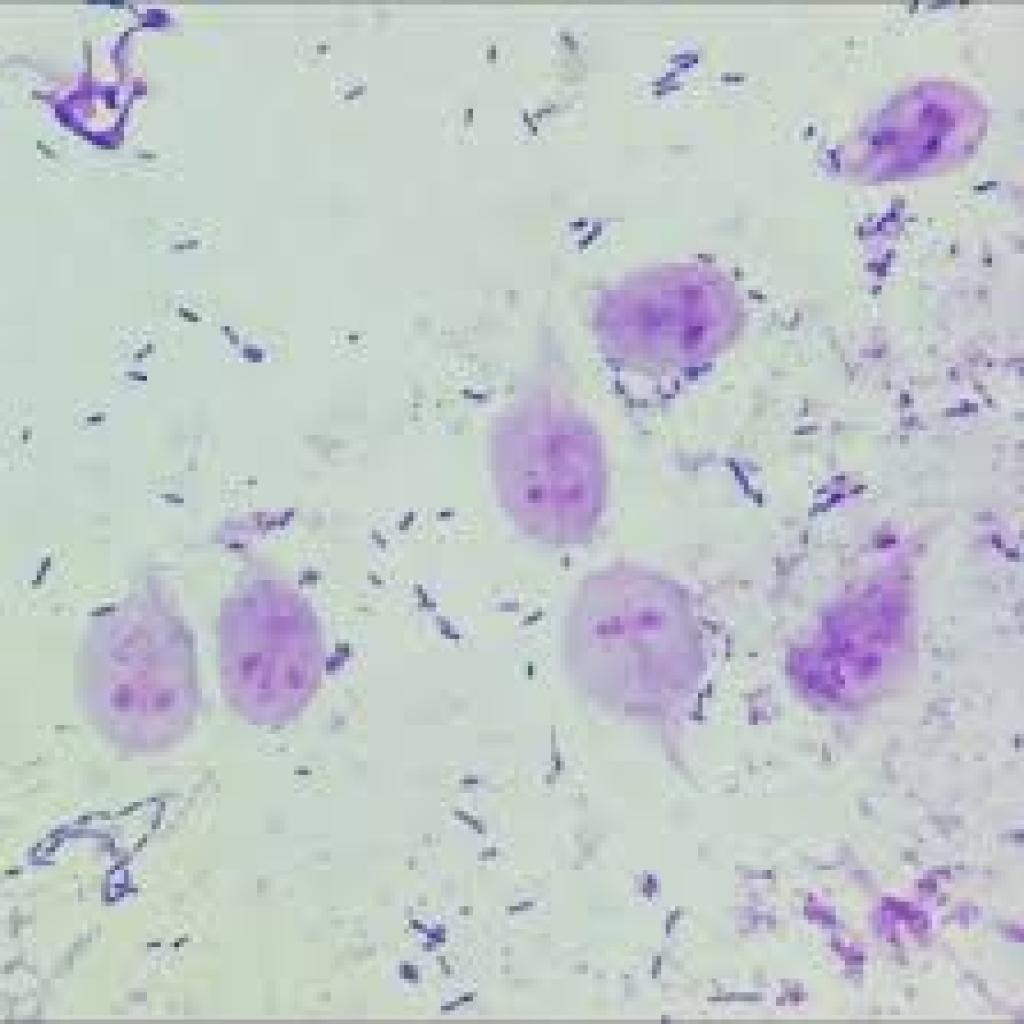Giardia: (551, 562, 712, 757), (772, 548, 932, 707), (482, 367, 615, 548), (69, 580, 197, 757), (826, 68, 996, 190), (216, 566, 335, 738), (588, 258, 744, 372)
